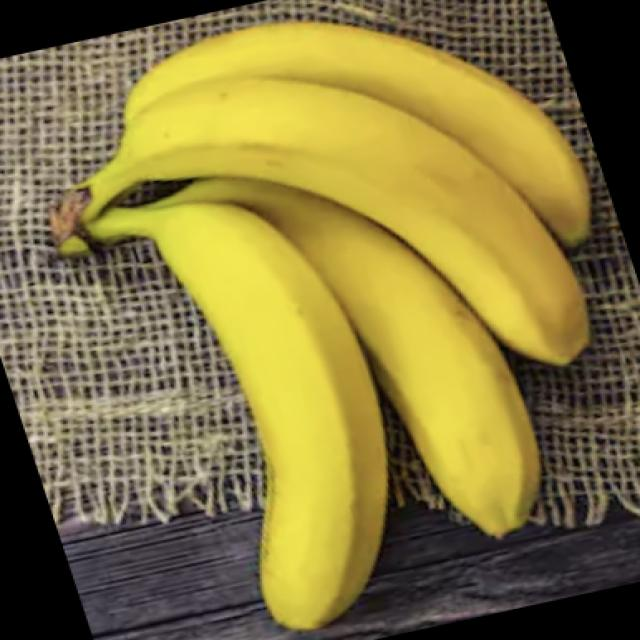god quality banana: (51, 22, 590, 630)
